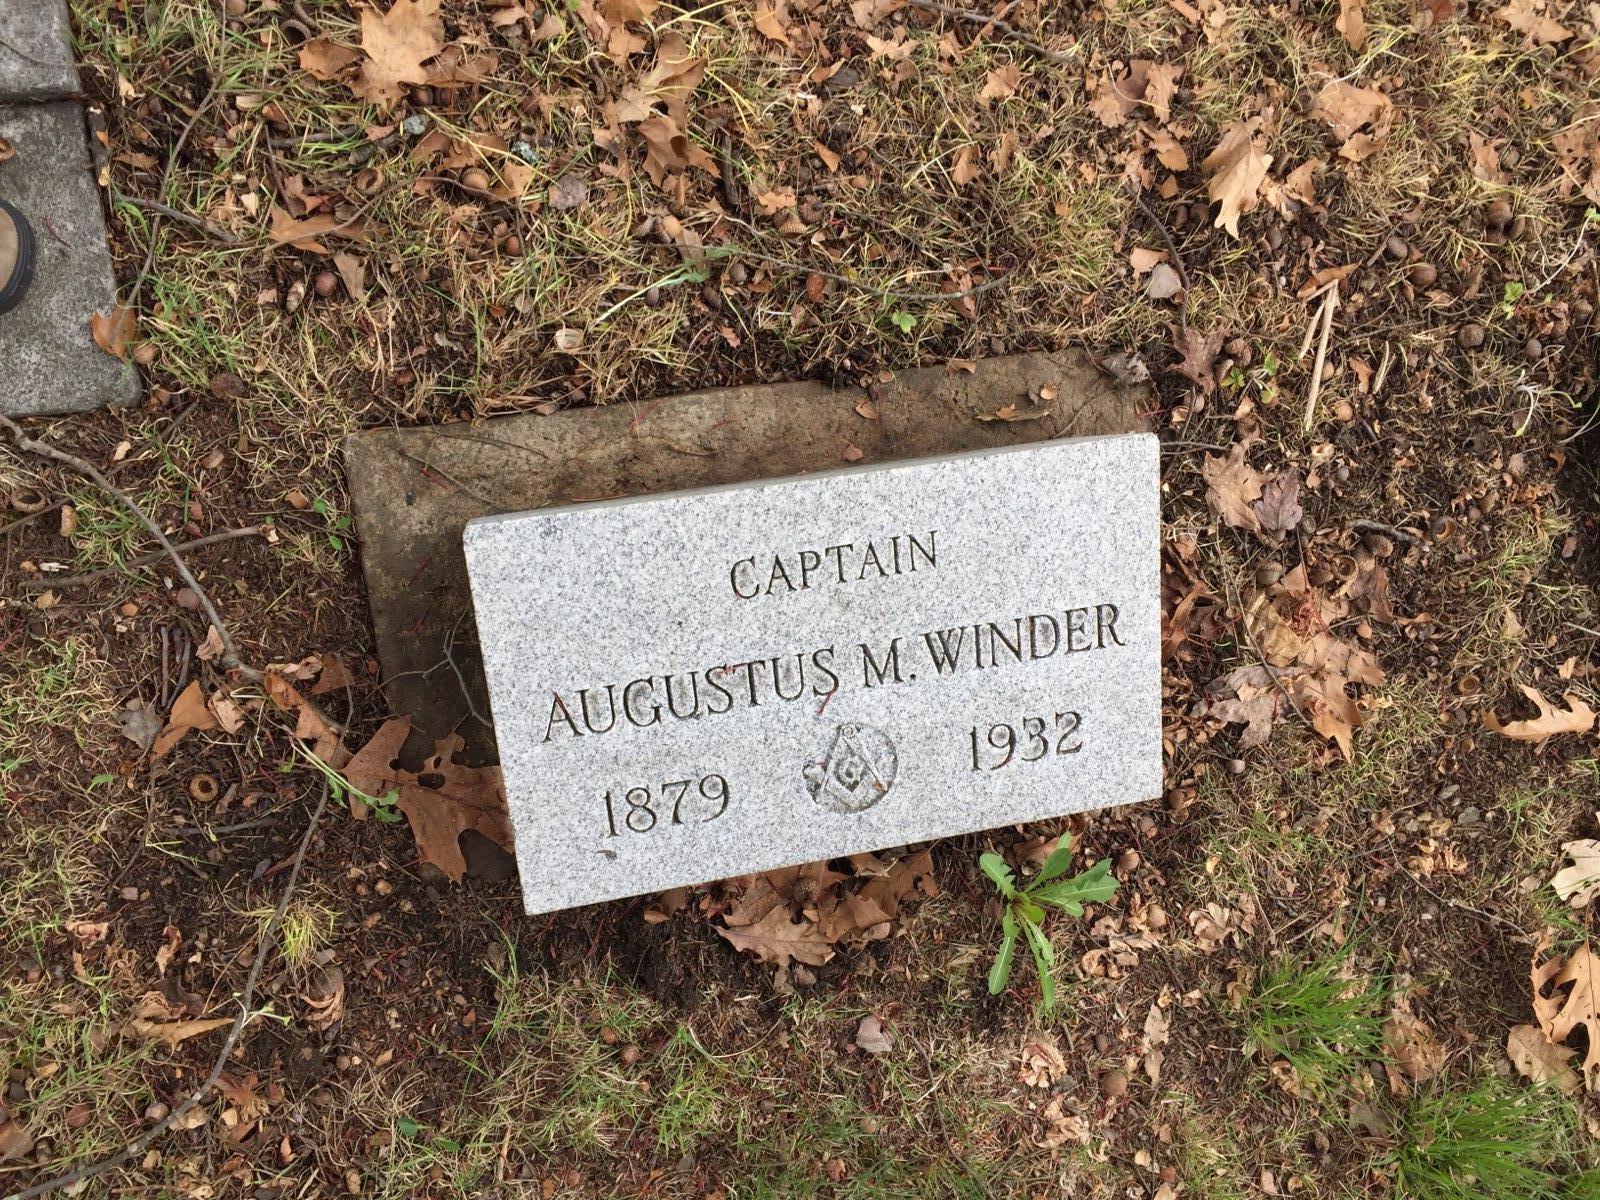flat: (460, 425, 1170, 919)
